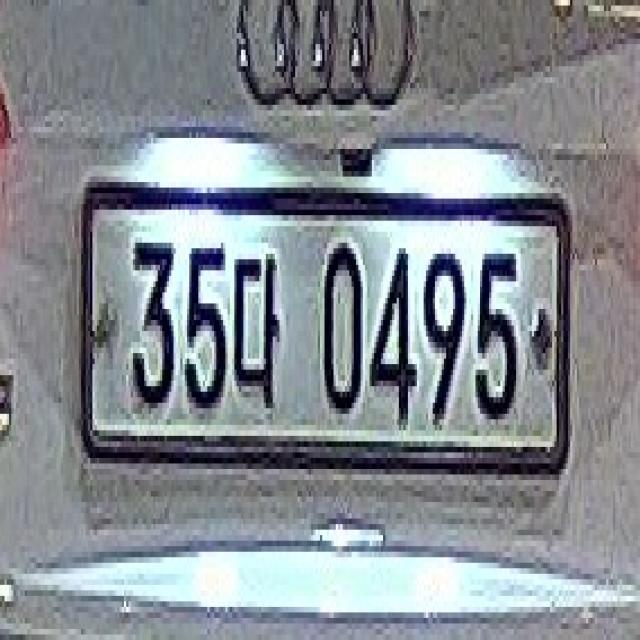0: (320, 238, 365, 420)
3: (130, 226, 176, 414)
4: (367, 238, 417, 420)
5: (182, 243, 228, 419), (474, 243, 518, 419)
9: (421, 248, 469, 425)
da: (234, 243, 282, 408)
license_plate: (77, 166, 572, 480)
